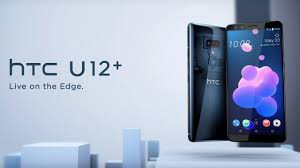htc: (225, 18, 290, 146), (183, 17, 226, 144)
